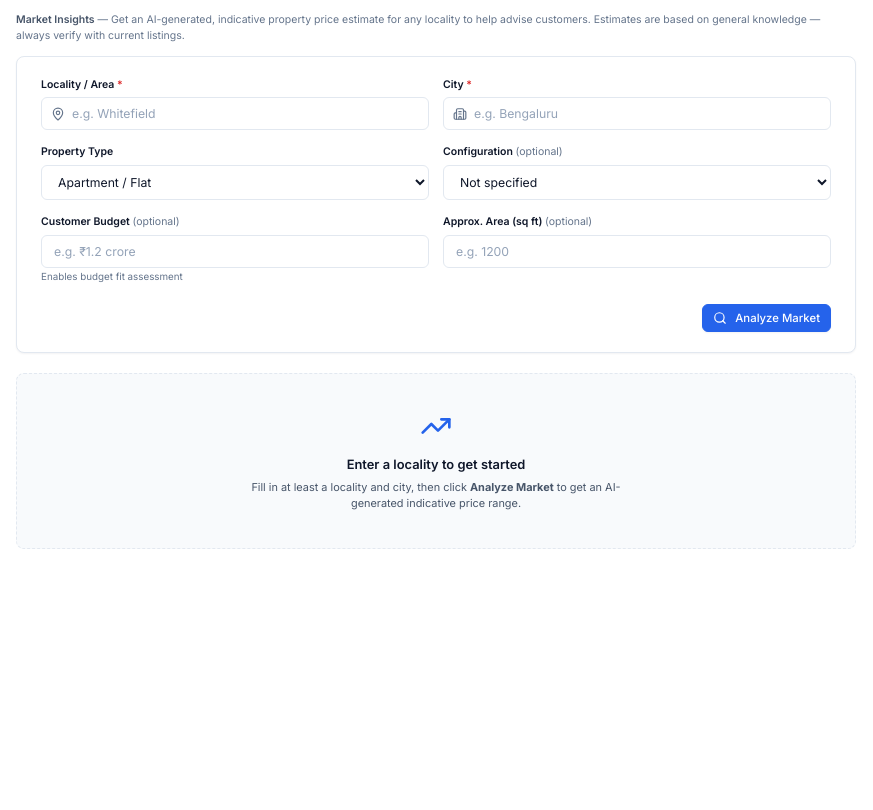
Scenario: MarketInsights — Null Estimates › gracefully displays when price estimates are null
Type "Whitefield" into the field with placeholder "e.g. Whitefield" at {"x": 235, "y": 114}, box [41,97,429,130]
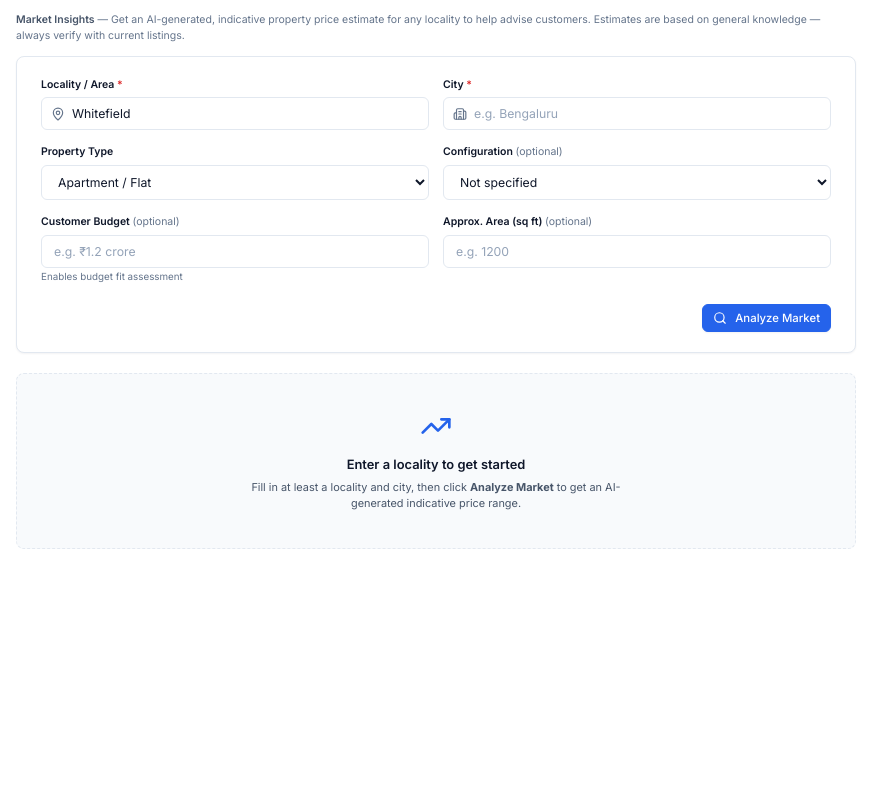
Type "Bengaluru" into the field with placeholder "e.g. Bengaluru" at {"x": 637, "y": 114}, box [443,97,831,130]
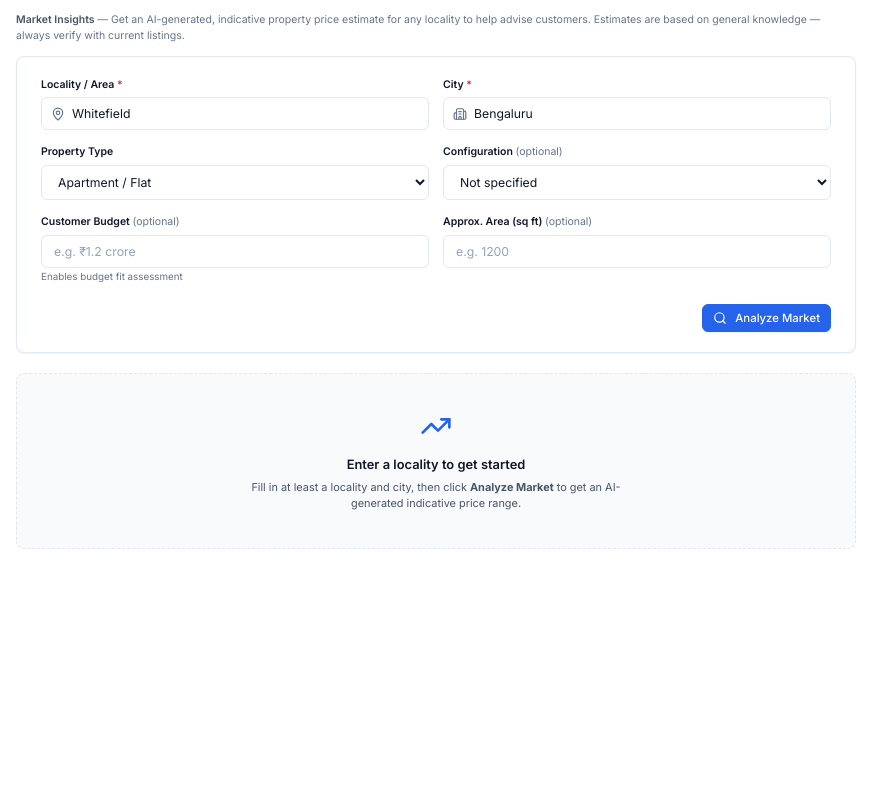
Click the button "Analyze Market" at {"x": 767, "y": 318}, box [702,304,831,332]
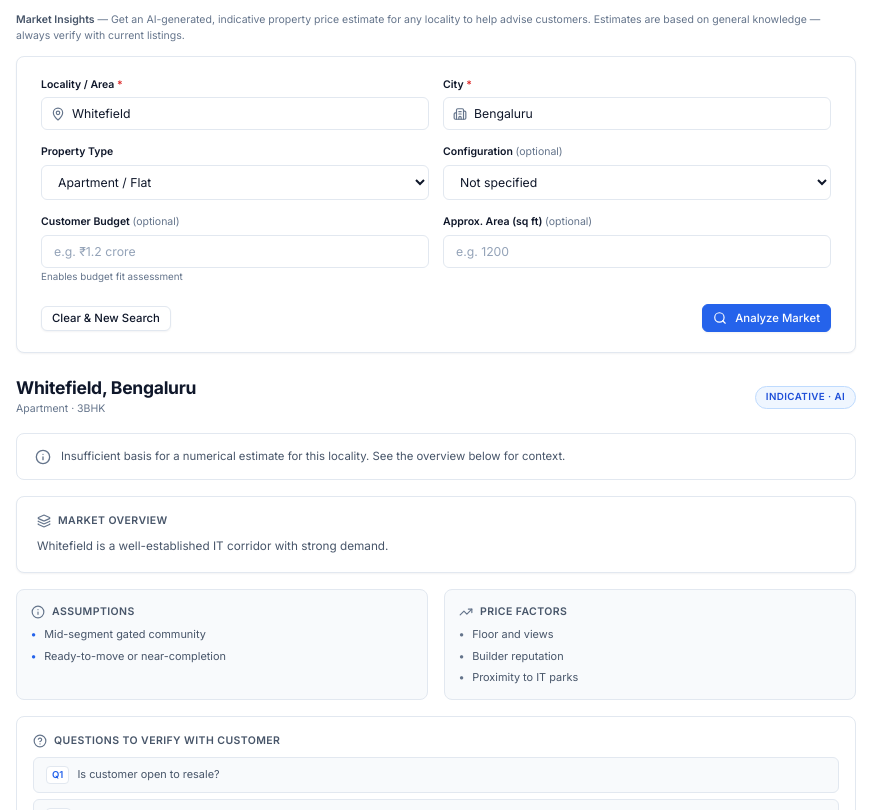
Check: the text "Insufficient basis for a numerical estimate" is shown, box [61,449,565,463]
